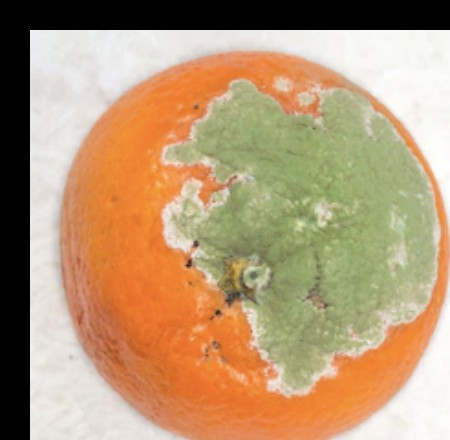rotten_orange: (61, 51, 450, 440)
